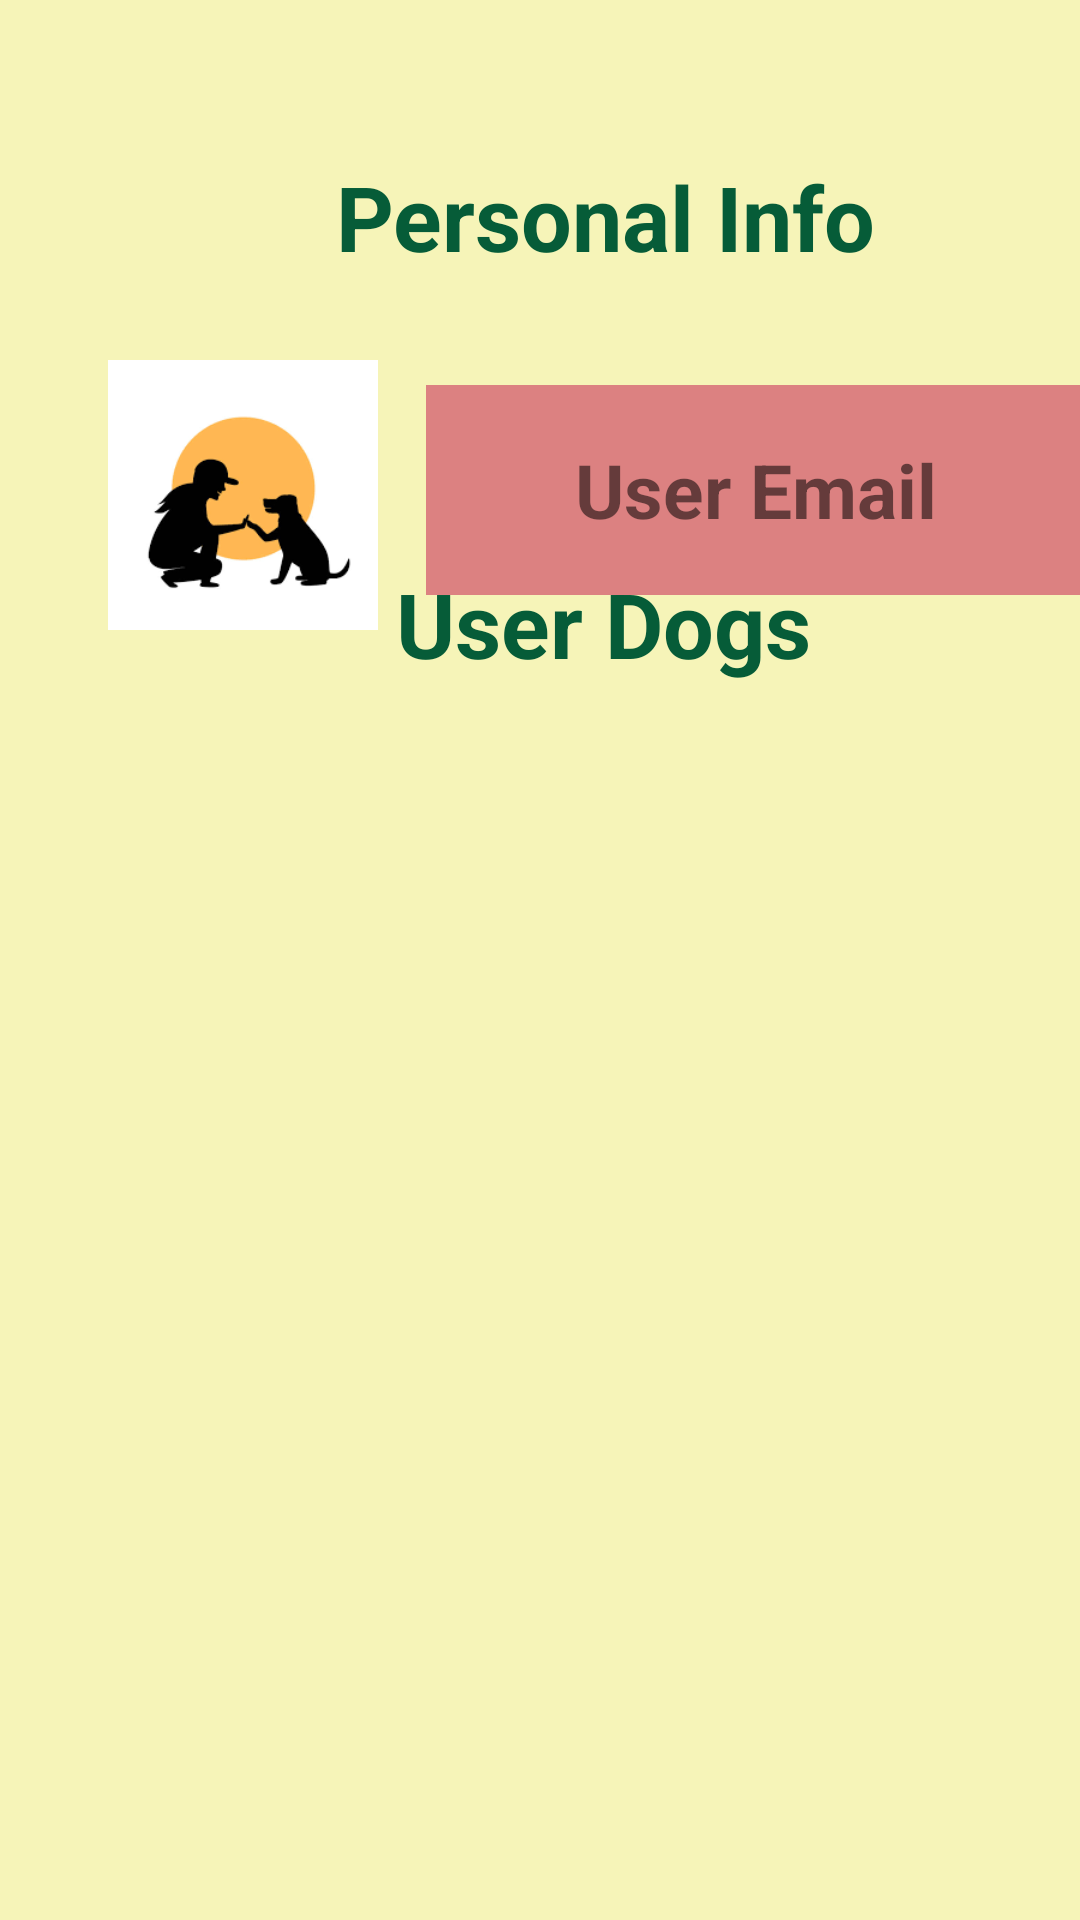

Named icons in this screenshot (1080px x 1920px) and their centers, (x,y):
dogovner: (243,495)
